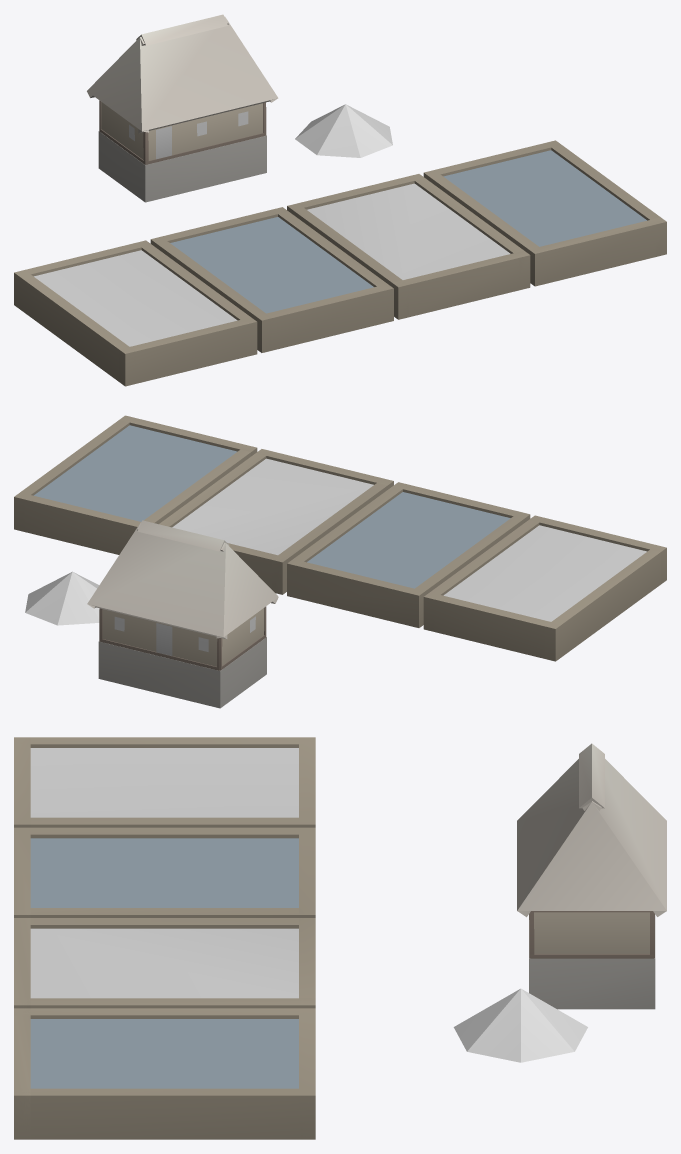
File: saltworks_1.glb
3 renders of one model, top to bottom at view 1: azimuth 30°, elevation 25°; view 2: azimuth 150°, elevation 25°; view 3: azimuth 270°, elevation 25°, orthographic. The views are drawn at different scales.
Parts seen in each view (by area): view 1: saltworks_1; view 2: saltworks_1; view 3: saltworks_1.
Boxes of the visible parts, x1,y1,x2,y2 form: saltworks_1: (14,14,666,386); saltworks_1: (14,415,666,708); saltworks_1: (14,737,666,1139).
Size of the model in its own units: 35.7 by 9.22 by 27.5.
